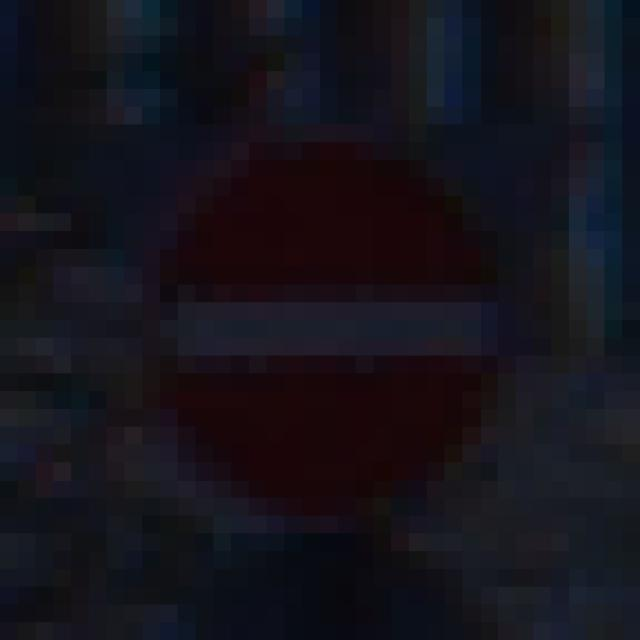No Entry: (108, 90, 552, 552)
